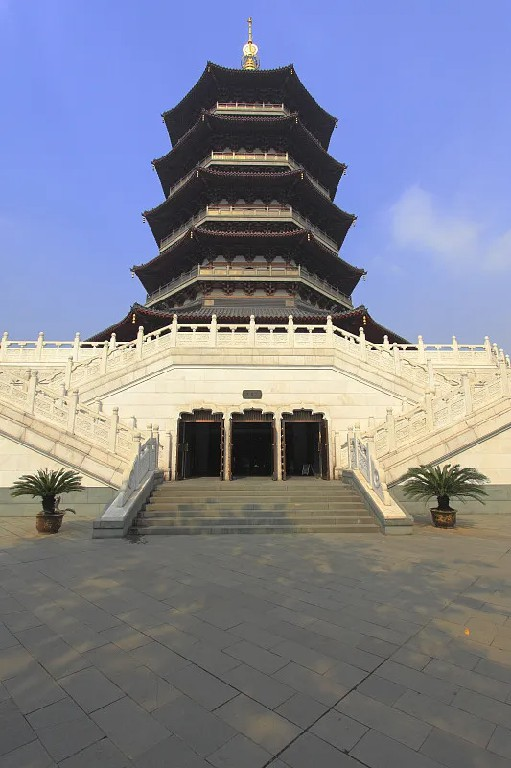Leifeng: (83, 12, 412, 349)
